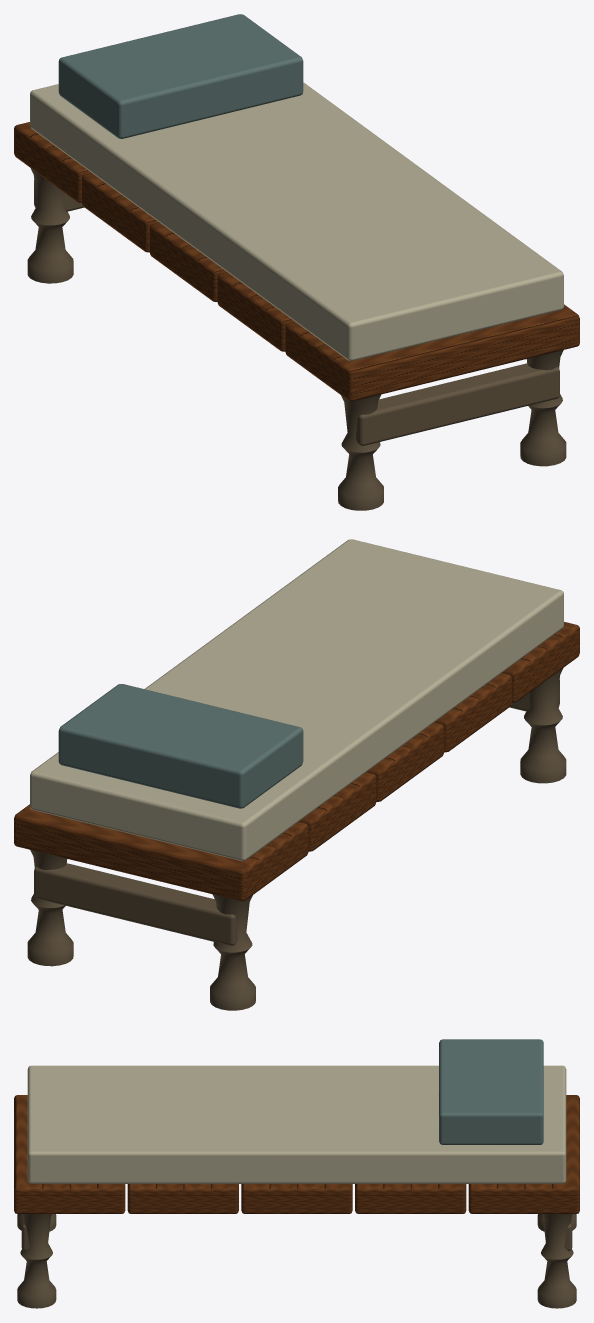
Rendered from undercity-sewers-and-thieves-den-cot-2b69f7ce__27238.glb.
3 renders of one model, top to bottom at view 1: azimuth 30°, elevation 25°; view 2: azimuth 150°, elevation 25°; view 3: azimuth 270°, elevation 25°, orthographic. The views are drawn at different scales.
Visible parts, largest first — view 1: cot; view 2: cot; view 3: cot.
Boxes of the visible parts, box(x1,y1,x2,y2) form: cot: box(14, 14, 579, 510); cot: box(14, 539, 579, 1010); cot: box(14, 1039, 579, 1308).
Bounding box in the file's own units: 0.75 × 0.69 × 1.89.
Materials: 4 (1 with a texture image).
